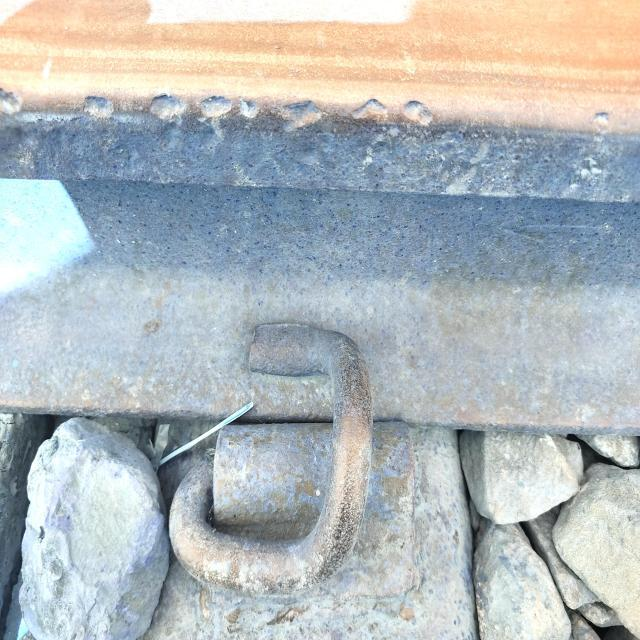Good Fasteners: (156, 314, 422, 640)
